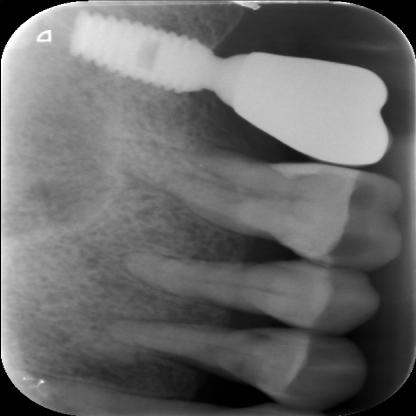Bicon: (64, 11, 218, 97)
